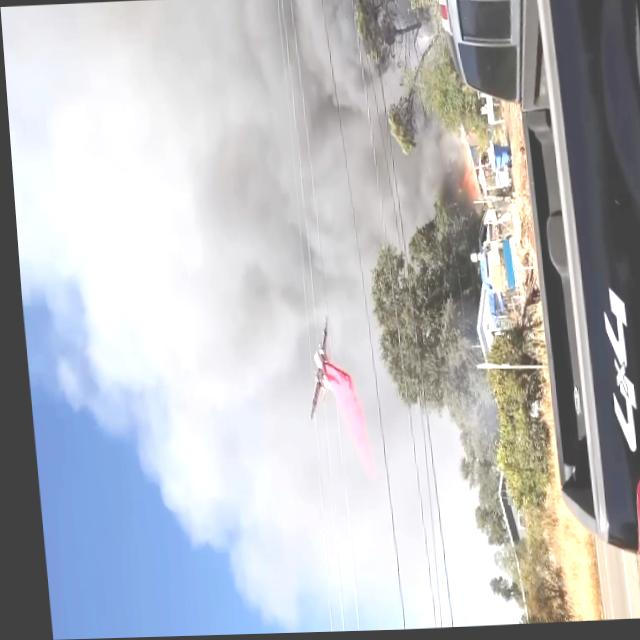Smoke: (0, 0, 375, 361)
